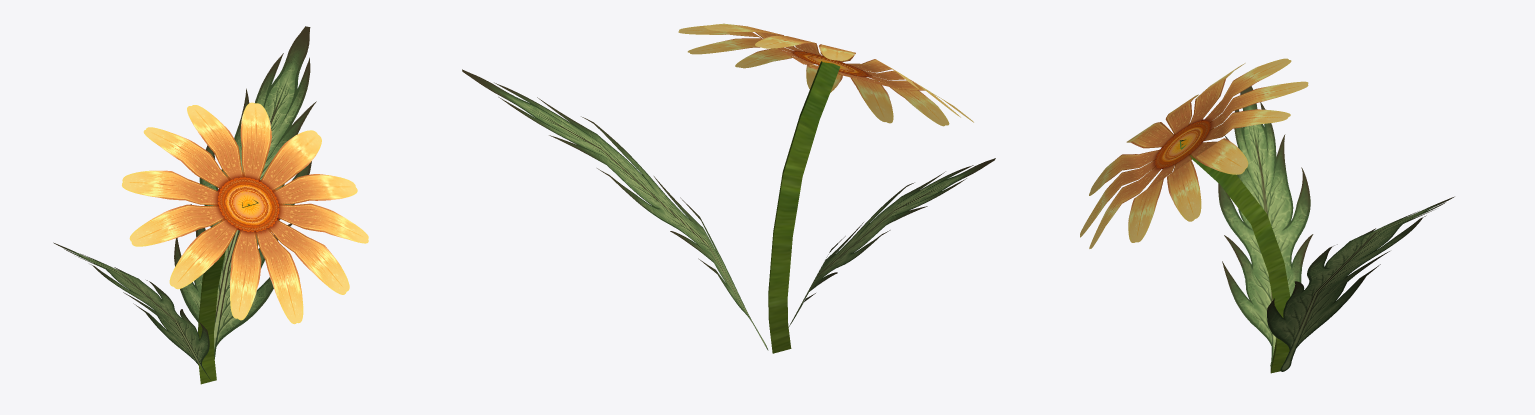
File: flower_6.fbx
3 renders of one model, left to right at view 1: azimuth 30°, elevation 25°; view 2: azimuth 150°, elevation 25°; view 3: azimuth 270°, elevation 25°, orthographic. The views are drawn at different scales.
Visible parts, largest first — view 1: Plane.008; view 2: Plane.008; view 3: Plane.008.
Boxes of the visible parts, x1,y1,x2,y2 form: Plane.008: (53, 26, 368, 384); Plane.008: (462, 23, 995, 353); Plane.008: (1080, 58, 1454, 373).
Bounding box in the file's own units: 137 × 91.79 × 123.
